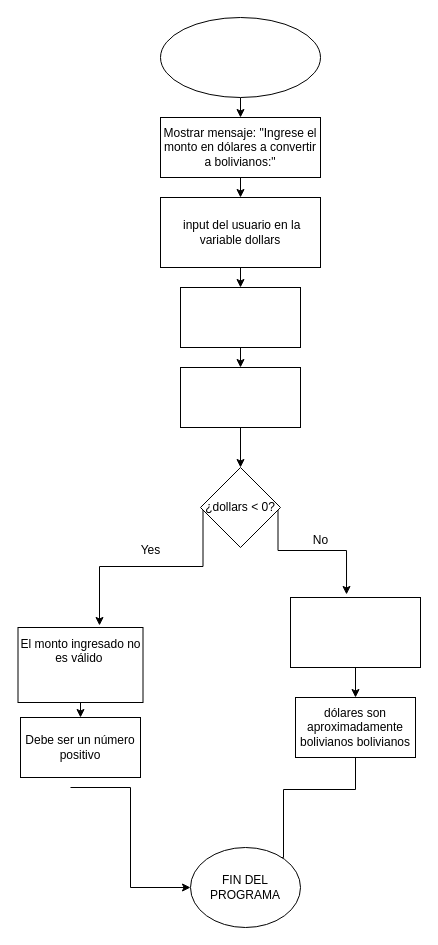
The diagram is 438 pixels wide and 945 high, and some of its shapes have lost their labels. Here are the shapes that lost their labels. From the top down, the box of each, then its label:
(160, 16, 320, 98): INICIO
(180, 286, 300, 348): Mostrar mensaje "Dolar actual"
(180, 366, 300, 428): Input del usuario: Ejemplo "9"
(290, 596, 420, 668): Calcular bolivianos = dollars * (input del usuario)
